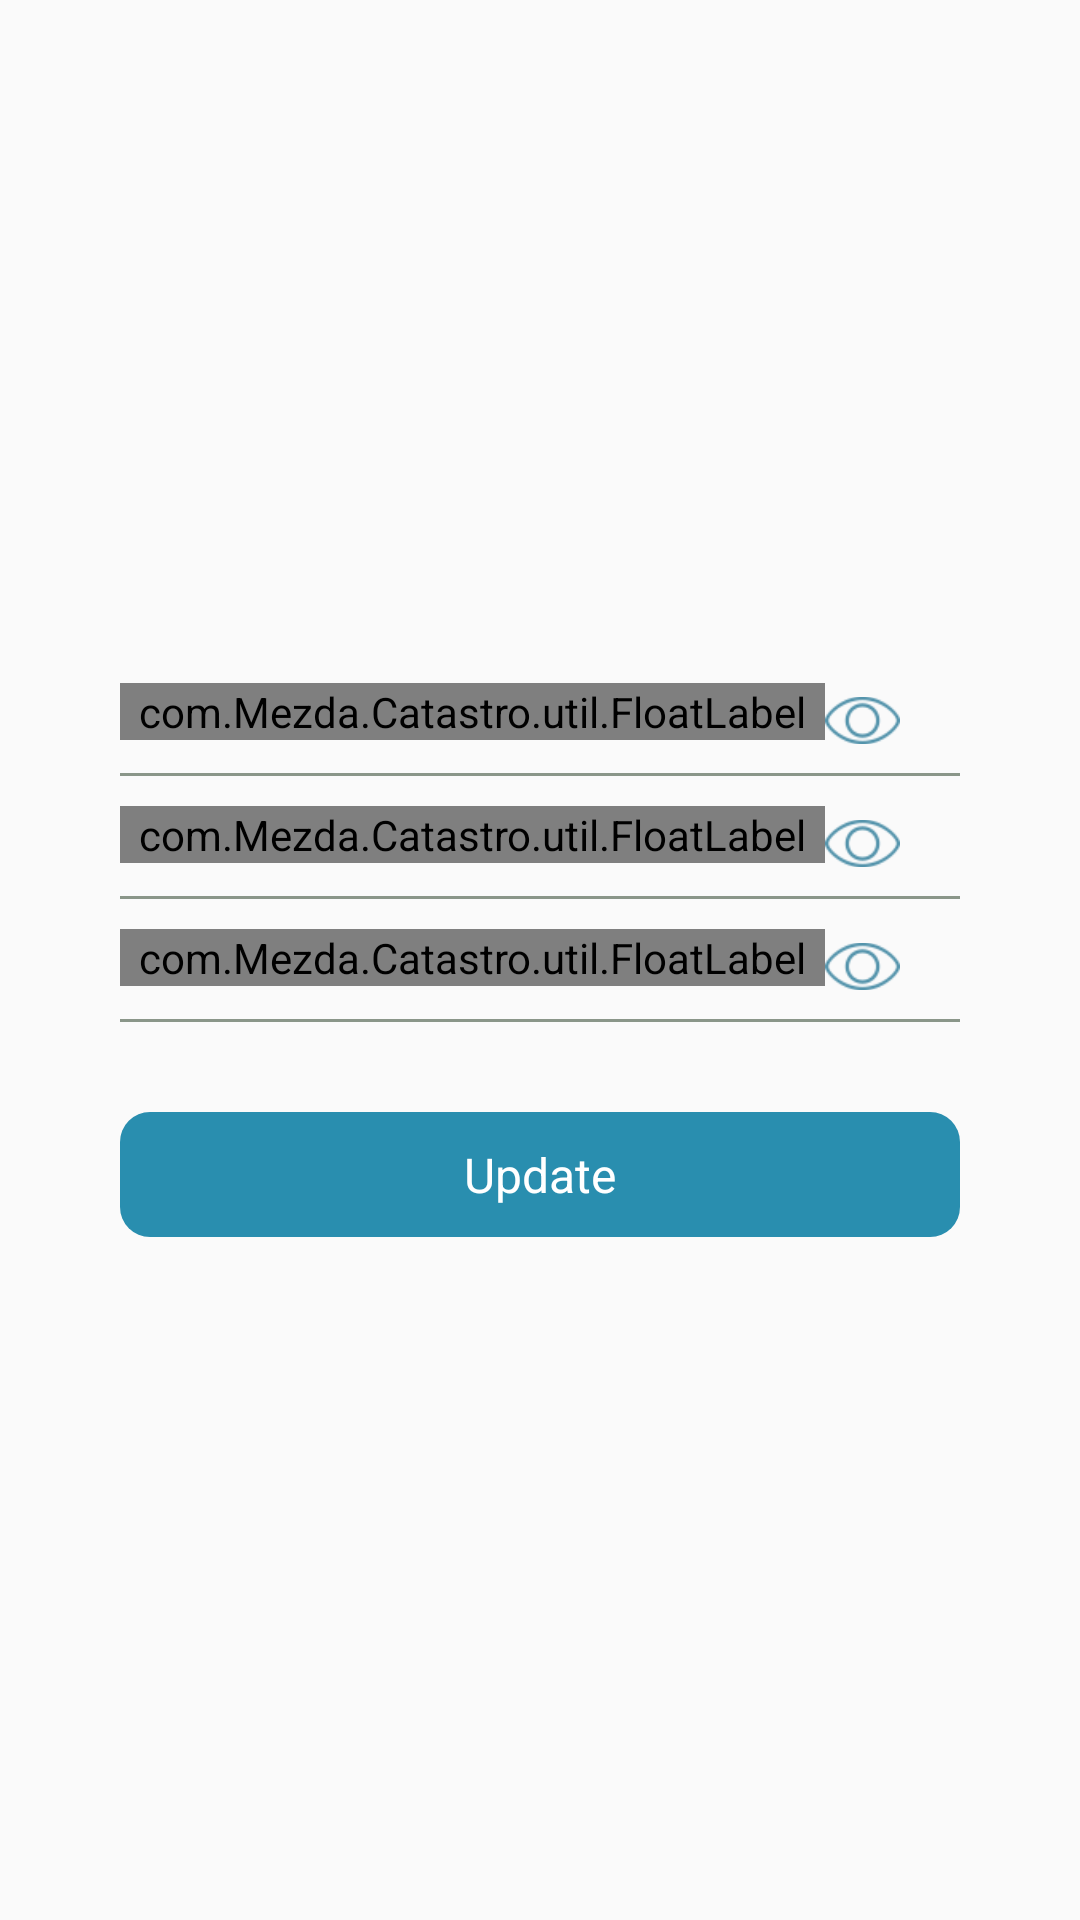

Where icons sit on this 1080px x 1920px app screen, as bbox=[x1, y1, x2, y2]:
show password: bbox=[825, 697, 900, 744], bbox=[825, 820, 900, 867], bbox=[825, 943, 900, 990]
